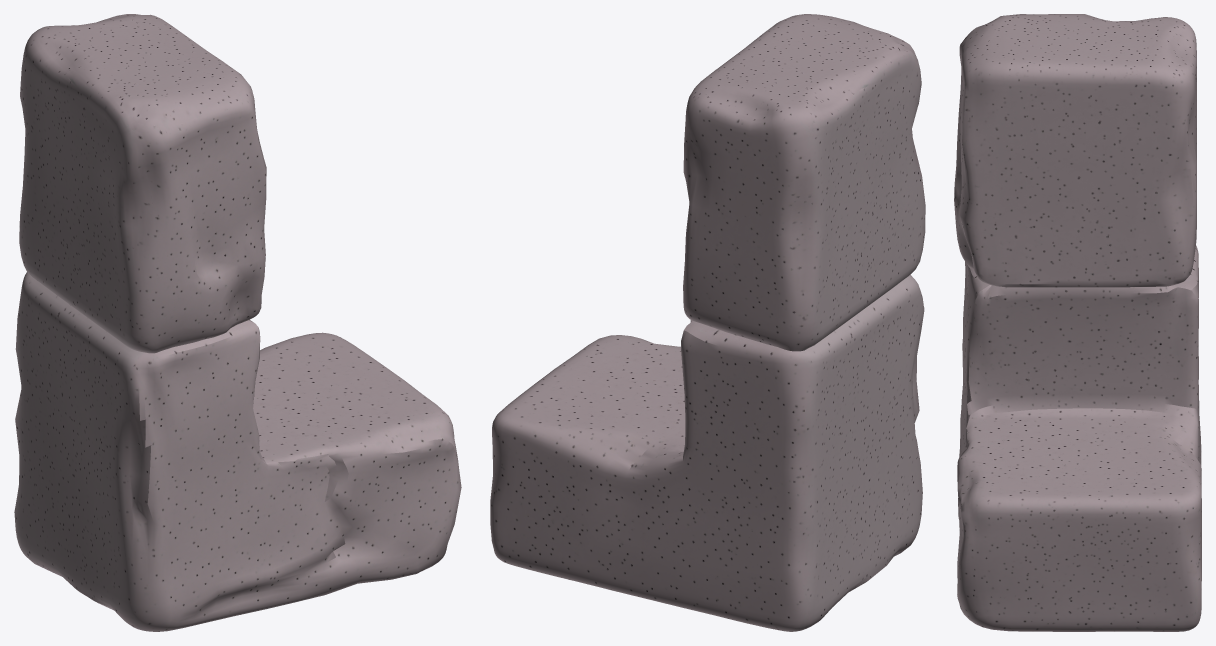
Rendered from brick_L_granite.glb.
The picture shows the model from 3 angles, left to right: view 1: azimuth 30°, elevation 25°; view 2: azimuth 150°, elevation 25°; view 3: azimuth 270°, elevation 25°; orthographic projection. The views are drawn at different scales.
Visible parts, largest first — view 1: Mesh_0; view 2: Mesh_0; view 3: Mesh_0.
Part boxes in pixels (<box>): Mesh_0: <box>14,14,461,631</box>; Mesh_0: <box>490,14,925,631</box>; Mesh_0: <box>954,14,1201,631</box>.
Size of the model in its own units: 1.23 by 1.9 by 0.8782.
Materials: 1 (1 with a texture image).
